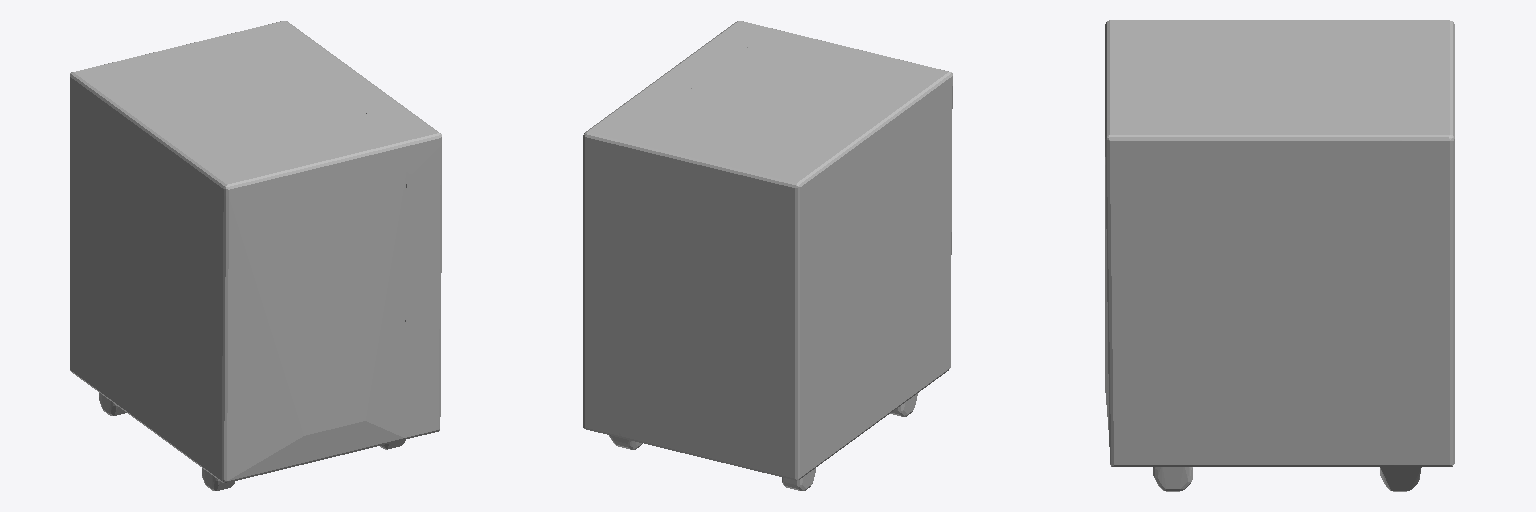
robot.urdf — root:
<?xml version="1.0"?>
<robot name="root">
  <link name="base_link">
    <visual>
      <origin xyz="0 0 0" rpy="0 0 0" />
      <geometry>
        <mesh filename="../meshes/unidex_sem_FileCabinet-75fe06475f7b7241920de219c00d1c3b_006.obj" scale="1.0000E+00 1.0000E+00 1.0000E+00" />
      </geometry>
      <material name="">
        <color rgba="7.50E-01 7.50E-01 7.50E-01 1" />
      </material>
    </visual>
    <collision>
      <origin xyz="0 0 0" rpy="0 0 0" />
      <geometry>
        <mesh filename="../meshes/unidex_sem_FileCabinet-75fe06475f7b7241920de219c00d1c3b_006.obj" scale="1.0000E+00 1.0000E+00 1.0000E+00" />
      </geometry>
    </collision>
  </link>
</robot>

--- Render facts (derived) ---
3 views of the same robot in one strip: view 1: azimuth 30°, elevation 25°; view 2: azimuth 150°, elevation 25°; view 3: azimuth 270°, elevation 25° (orthographic).
Robot: root — 1 links, 0 joints (none); root link base_link; default pose: every joint at zero.
Links seen in each view (by area): view 1: base_link; view 2: base_link; view 3: base_link.
Boxes of the visible links, <box> form: base_link: <box>70,21,441,490</box>; base_link: <box>583,21,952,490</box>; base_link: <box>1105,20,1454,491</box>.
Bounding box of the posed robot: 0.0549 × 0.0687 × 0.079 m (x, y, z).
1 mesh visuals loaded from 1 distinct referenced files (1 OBJ).
